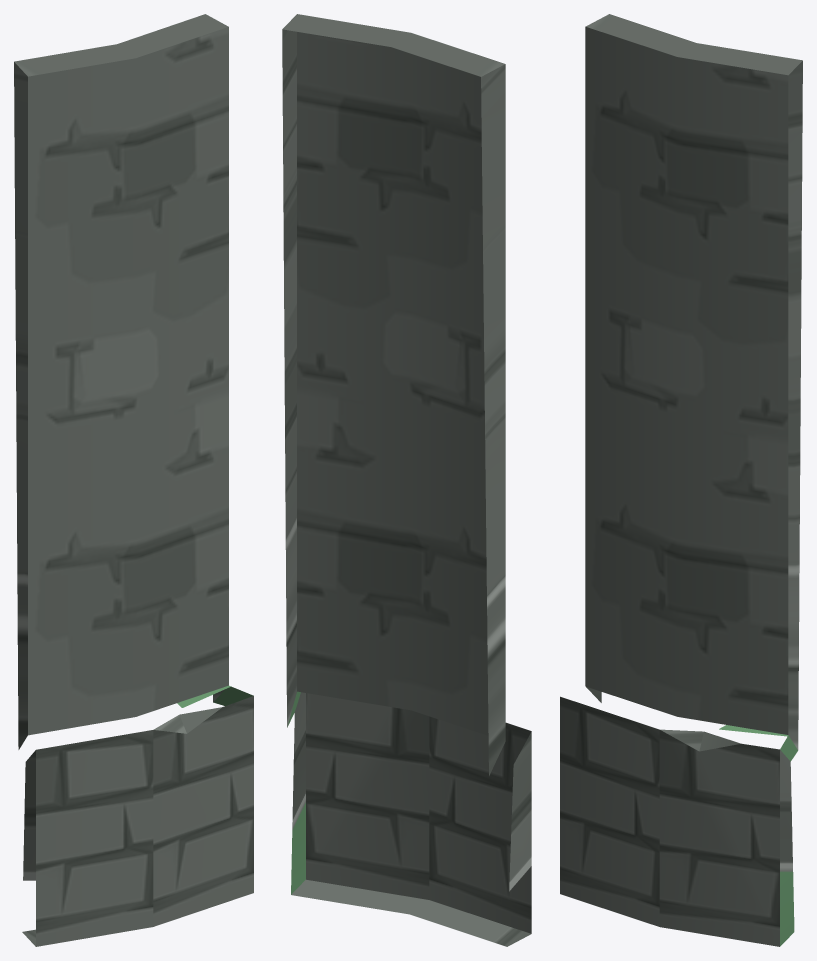
File: SM_Env_Wall_16.fbx
3 views of the same model, side by side, from view 1: azimuth 30°, elevation 25°; view 2: azimuth 150°, elevation 25°; view 3: azimuth 330°, elevation 25° (orthographic). The views are drawn at different scales.
Visible parts, largest first — view 1: SM_Env_Wall_16; view 2: SM_Env_Wall_16; view 3: SM_Env_Wall_16.
Part boxes in pixels (x1,y1,x2,y2): SM_Env_Wall_16: (14, 14, 253, 946); SM_Env_Wall_16: (282, 14, 531, 946); SM_Env_Wall_16: (560, 14, 802, 946).
Bounding box in the file's own units: 84.7 × 317 × 30.44.
1 material, 1 textured.
